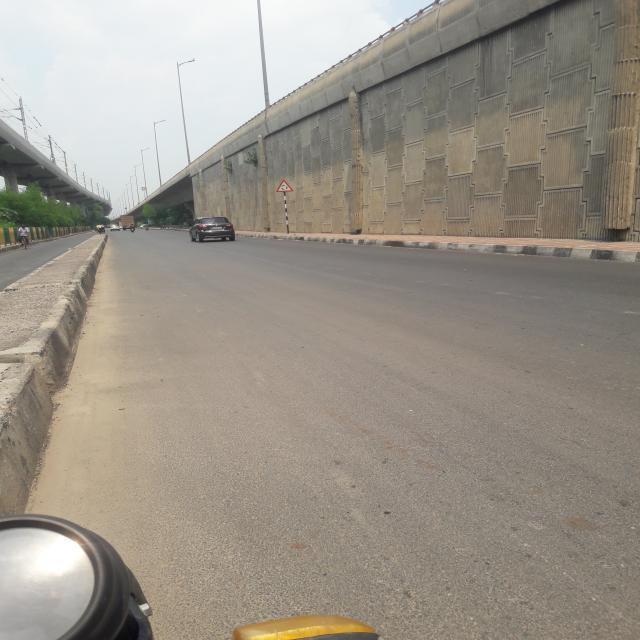roundabout: (276, 180, 293, 192)
